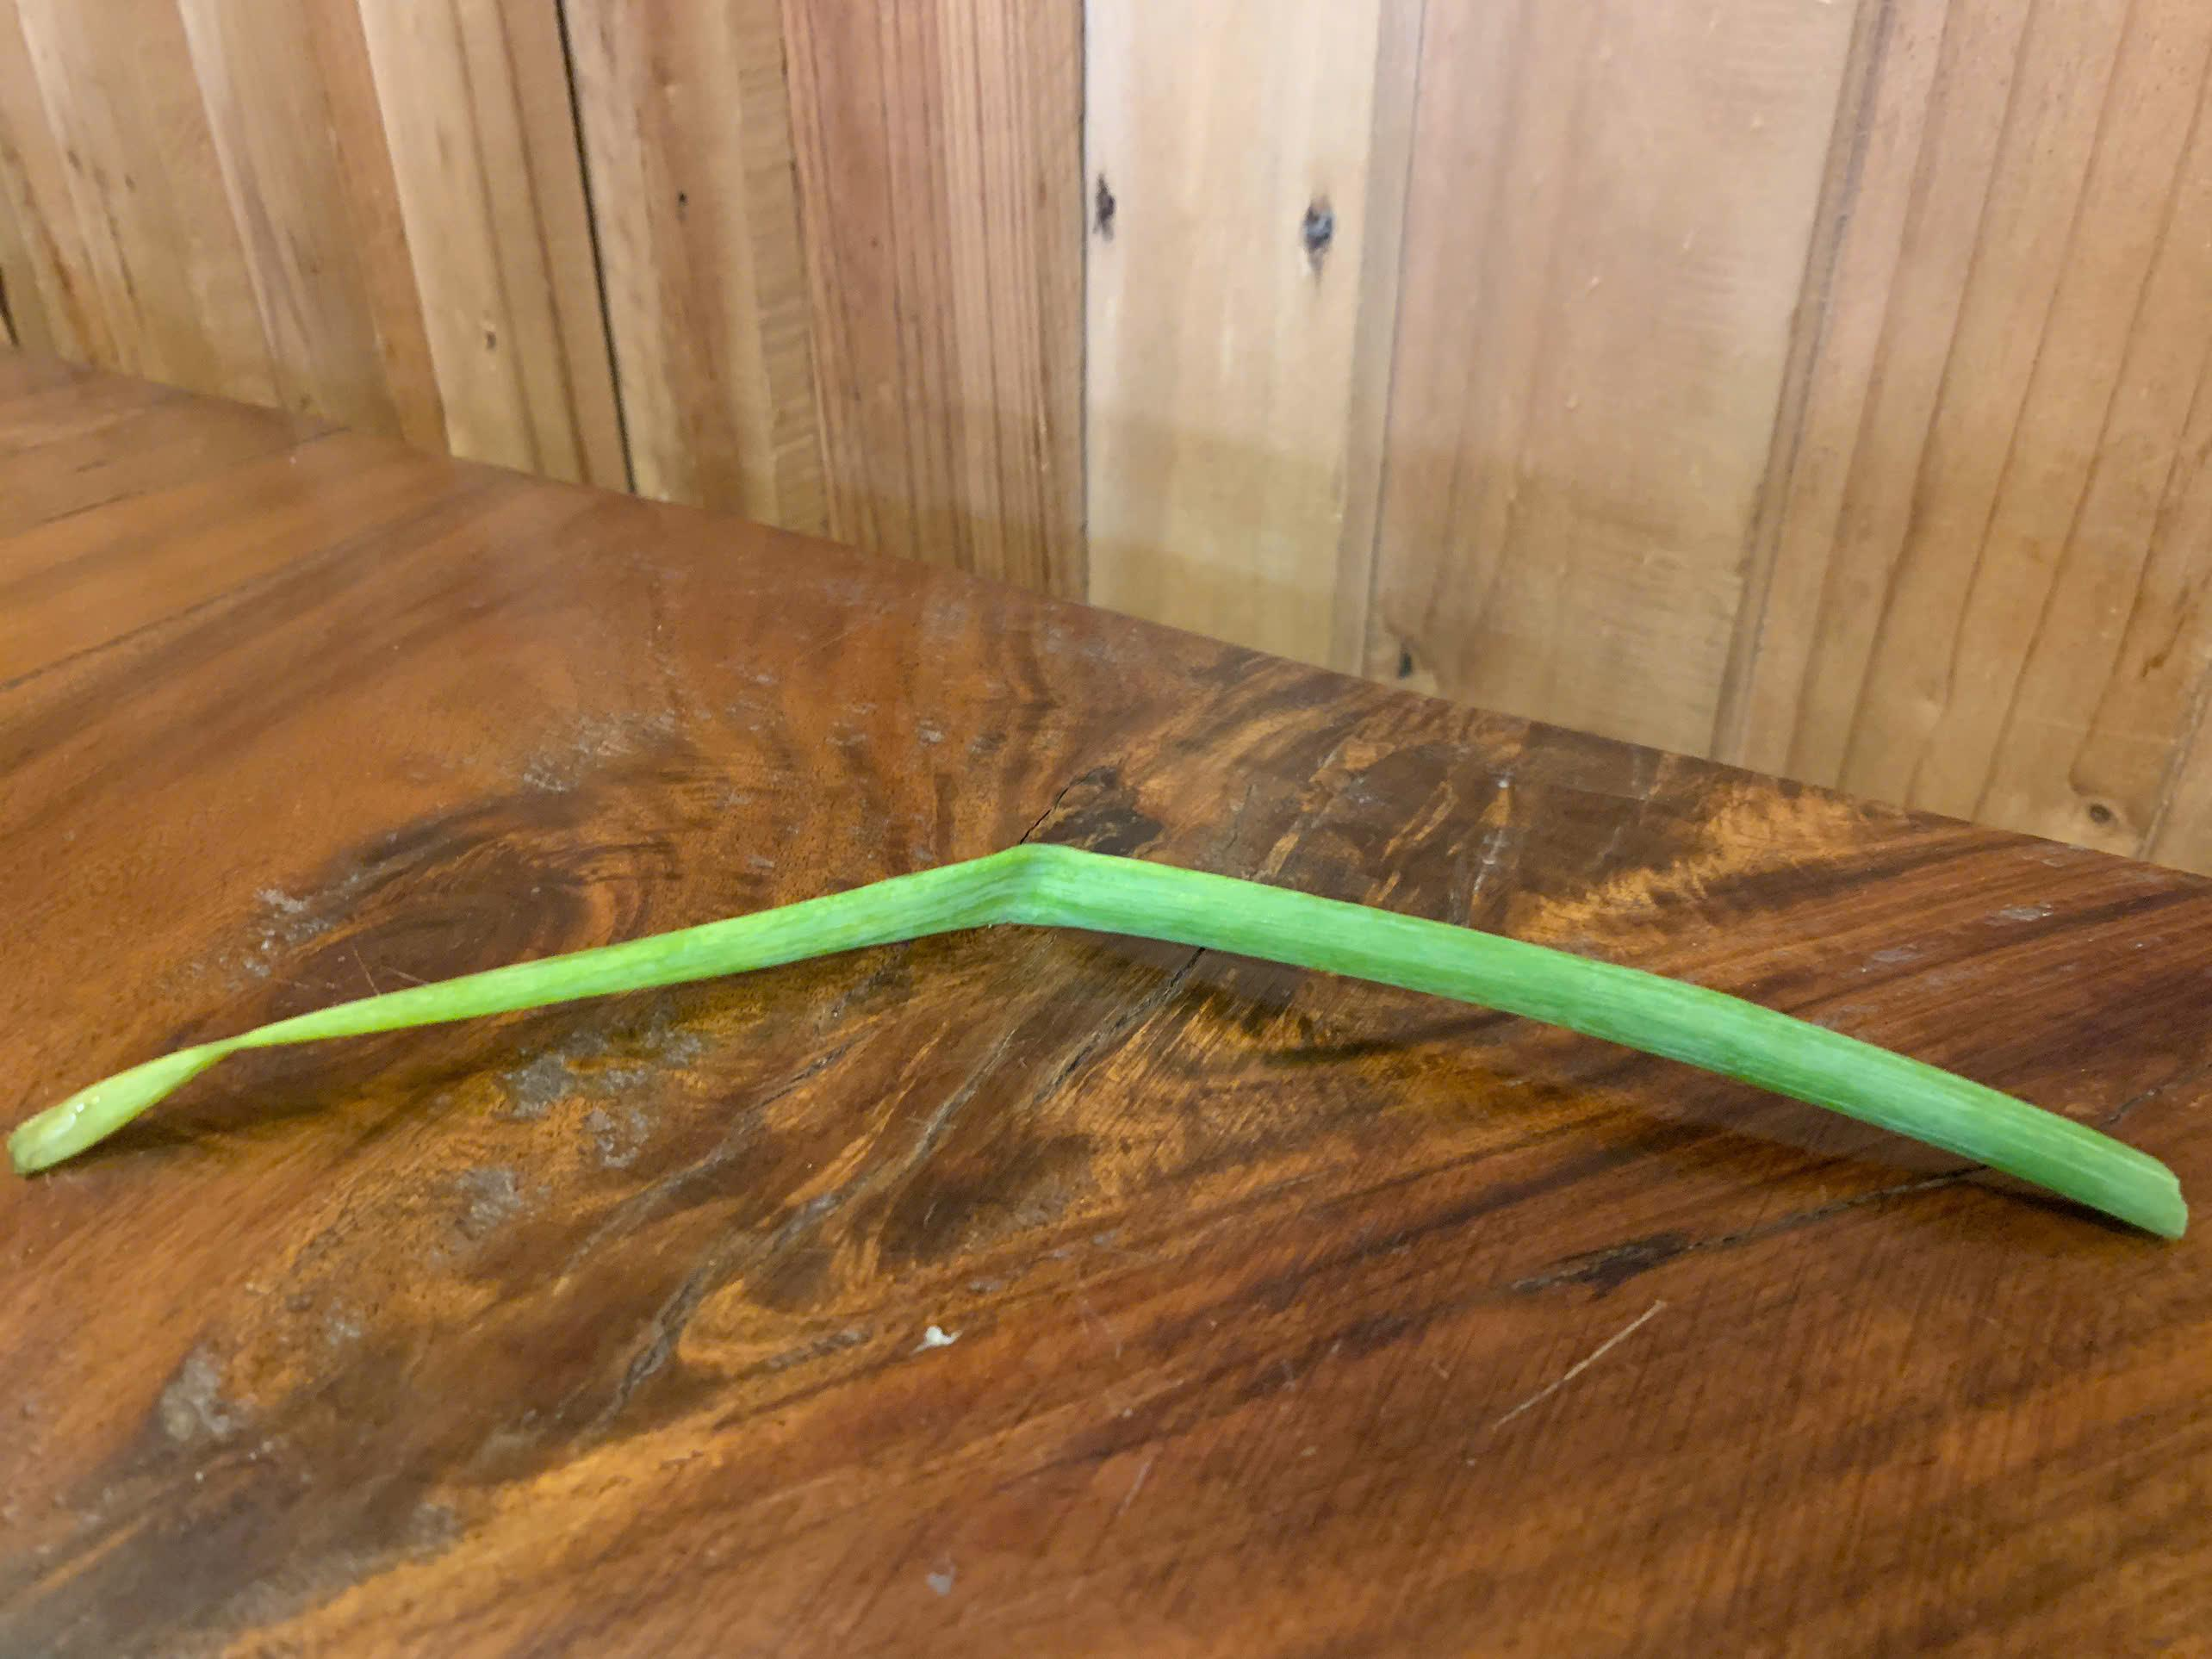Huu co: (14, 842, 2191, 1230)
